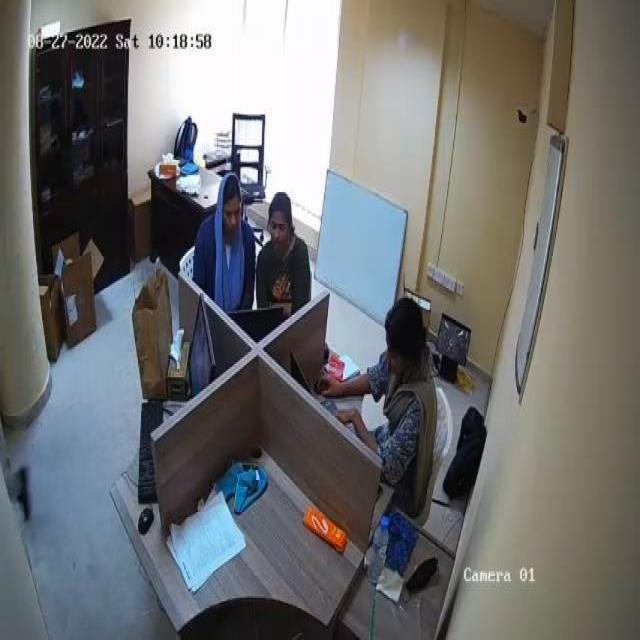bare_hand: (314, 365, 353, 404), (337, 399, 365, 436)
